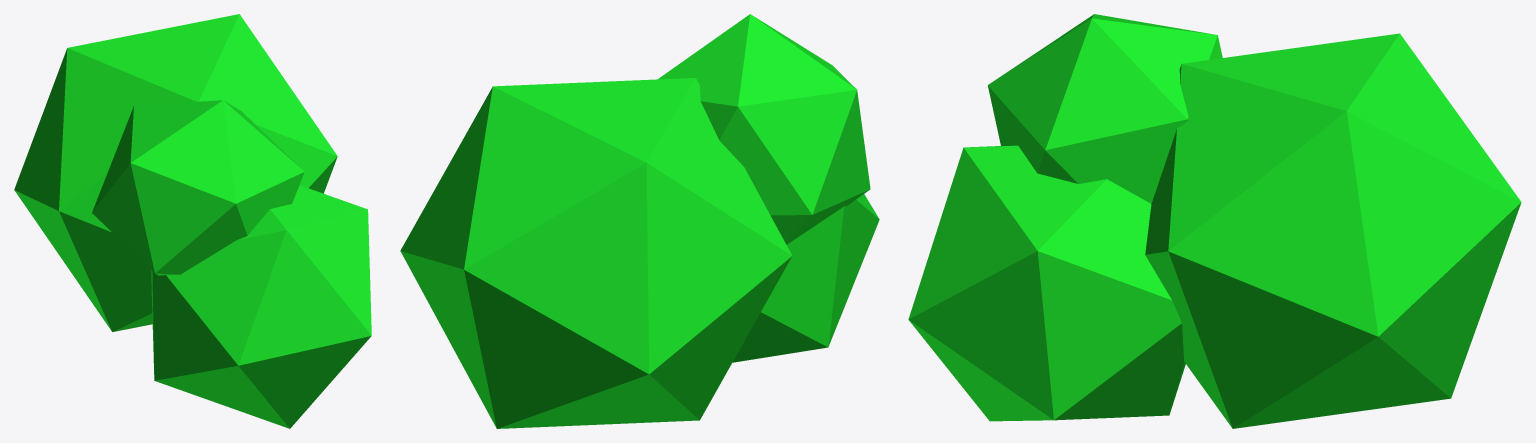
The model's file is Bush2.FBX.
The picture shows the model from 3 angles, left to right: view 1: azimuth 30°, elevation 25°; view 2: azimuth 150°, elevation 25°; view 3: azimuth 270°, elevation 25°; orthographic projection. The views are drawn at different scales.
Parts seen in each view (by area): view 1: Tree, Tree002, Tree001; view 2: Tree, Tree001, Tree002; view 3: Tree, Tree002, Tree001.
Boxes of the visible parts, x1,y1,x2,y2 form: Tree: (14, 14, 337, 331); Tree002: (151, 185, 371, 428); Tree001: (92, 100, 304, 275); Tree: (400, 78, 792, 428); Tree001: (658, 14, 870, 244); Tree002: (732, 194, 879, 362); Tree: (1145, 33, 1521, 428); Tree002: (908, 145, 1185, 421); Tree001: (987, 14, 1222, 203).
Bounding box in the file's own units: 477 × 493 × 708.
